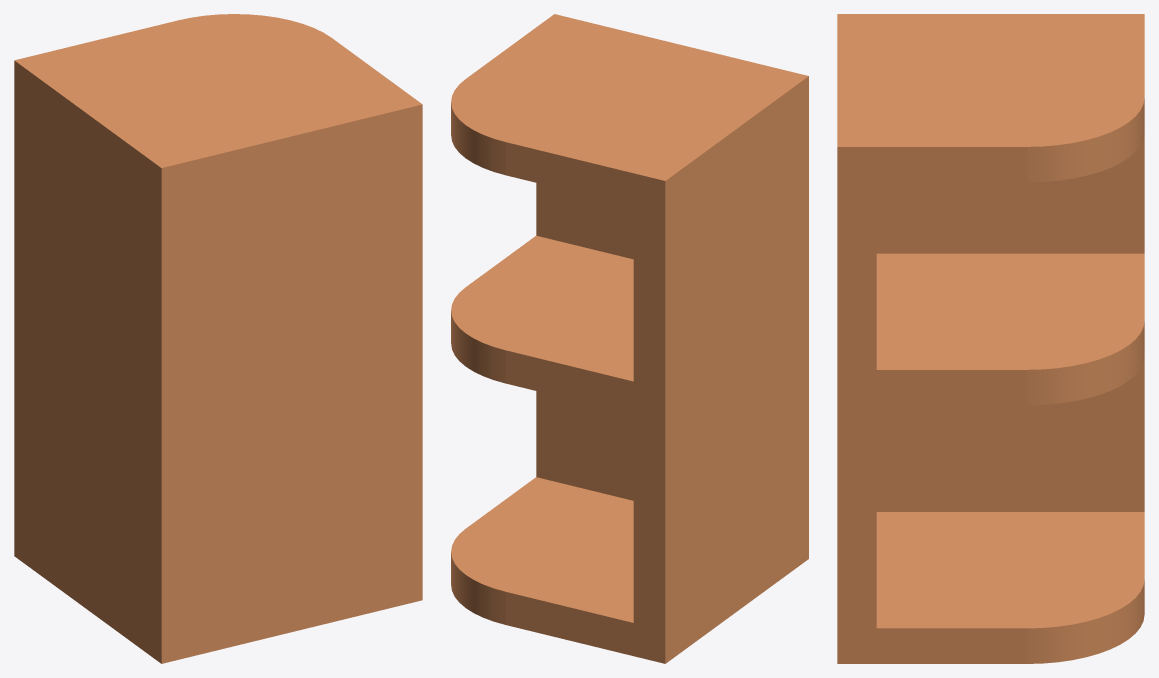
Rendered from kitchenCabinetUpperCorner.fbx.
3 renders of one model, left to right at view 1: azimuth 30°, elevation 25°; view 2: azimuth 150°, elevation 25°; view 3: azimuth 270°, elevation 25°, orthographic. The views are drawn at different scales.
Visible parts, largest first — view 1: kitchenCabinetUpperCorner; view 2: kitchenCabinetUpperCorner; view 3: kitchenCabinetUpperCorner.
Part boxes in pixels (<box>): kitchenCabinetUpperCorner: <box>14,14,422,663</box>; kitchenCabinetUpperCorner: <box>451,14,808,663</box>; kitchenCabinetUpperCorner: <box>837,14,1144,663</box>.
Bounding box in the file's own units: 2.15 × 3.9 × 2.1.
